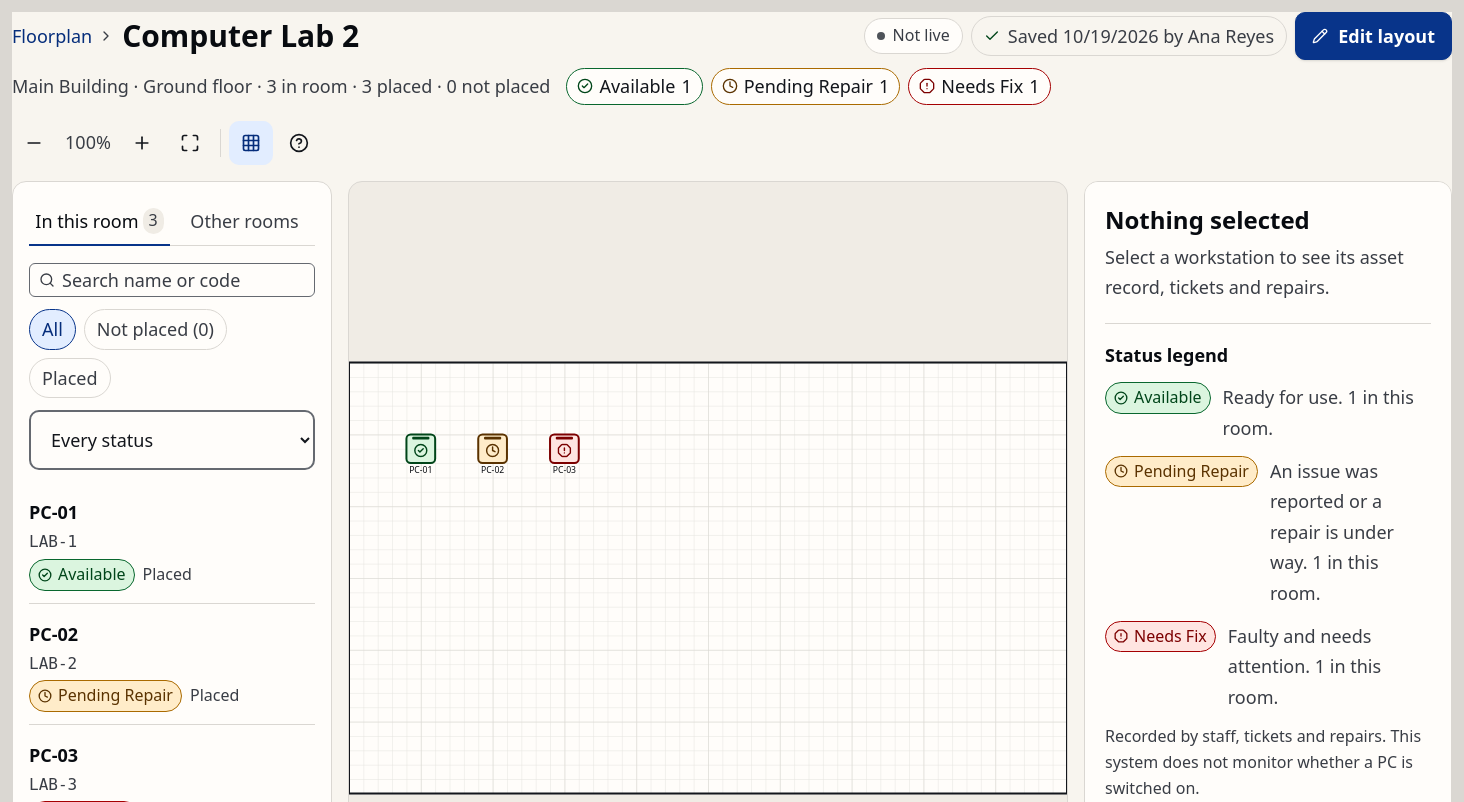
it: editing and saving › adds a fixture from the "Add fixture" menu, then closes the menu
The image size is (1464, 802).
Expected: the heading "Computer Lab 2" is shown, left=122, top=15, right=359, bottom=57
Click the button "Edit layout".
click(1374, 36)  # box left=1295, top=12, right=1452, bottom=60
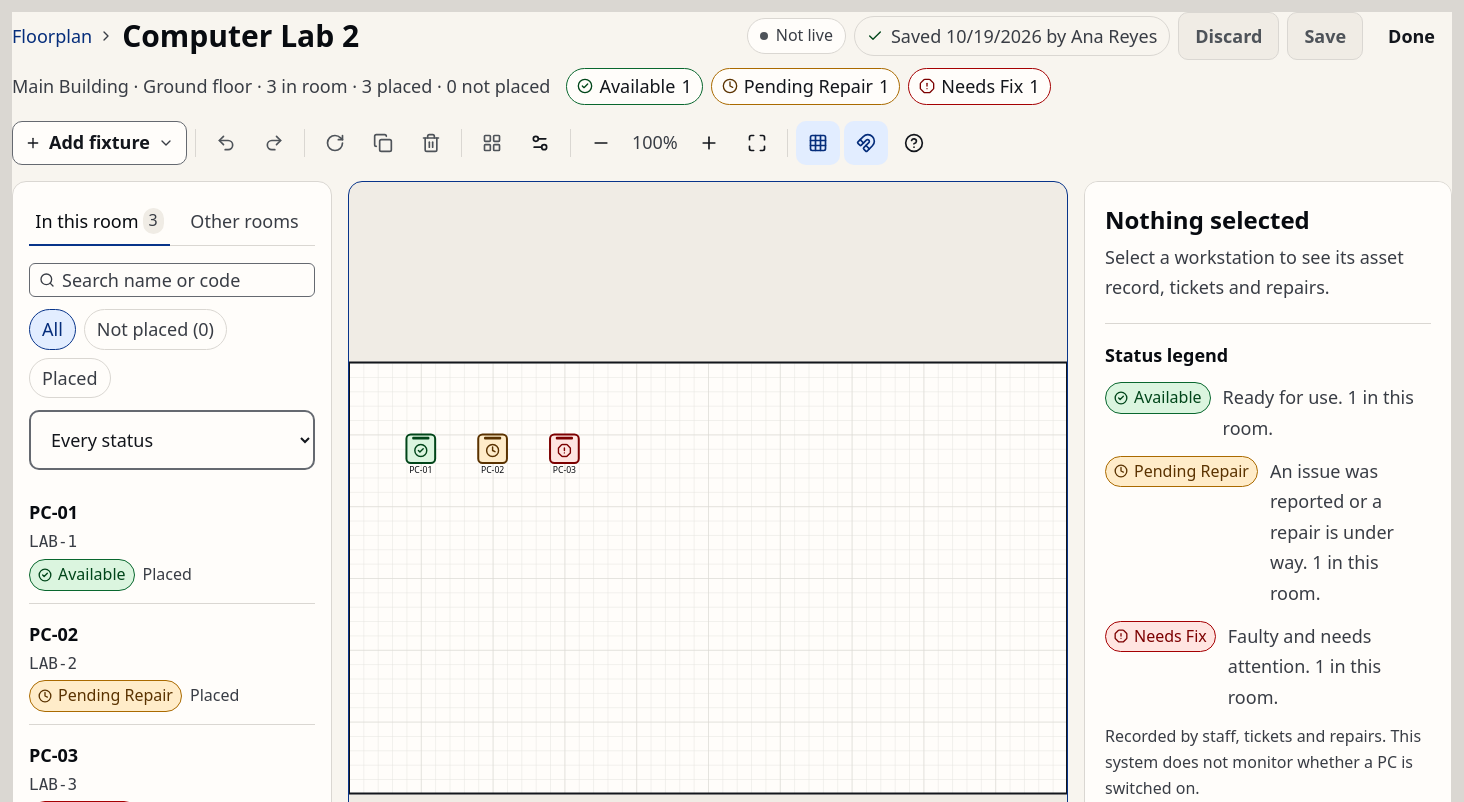
Click the button "Add fixture".
click(99, 143)  # box left=12, top=121, right=187, bottom=165
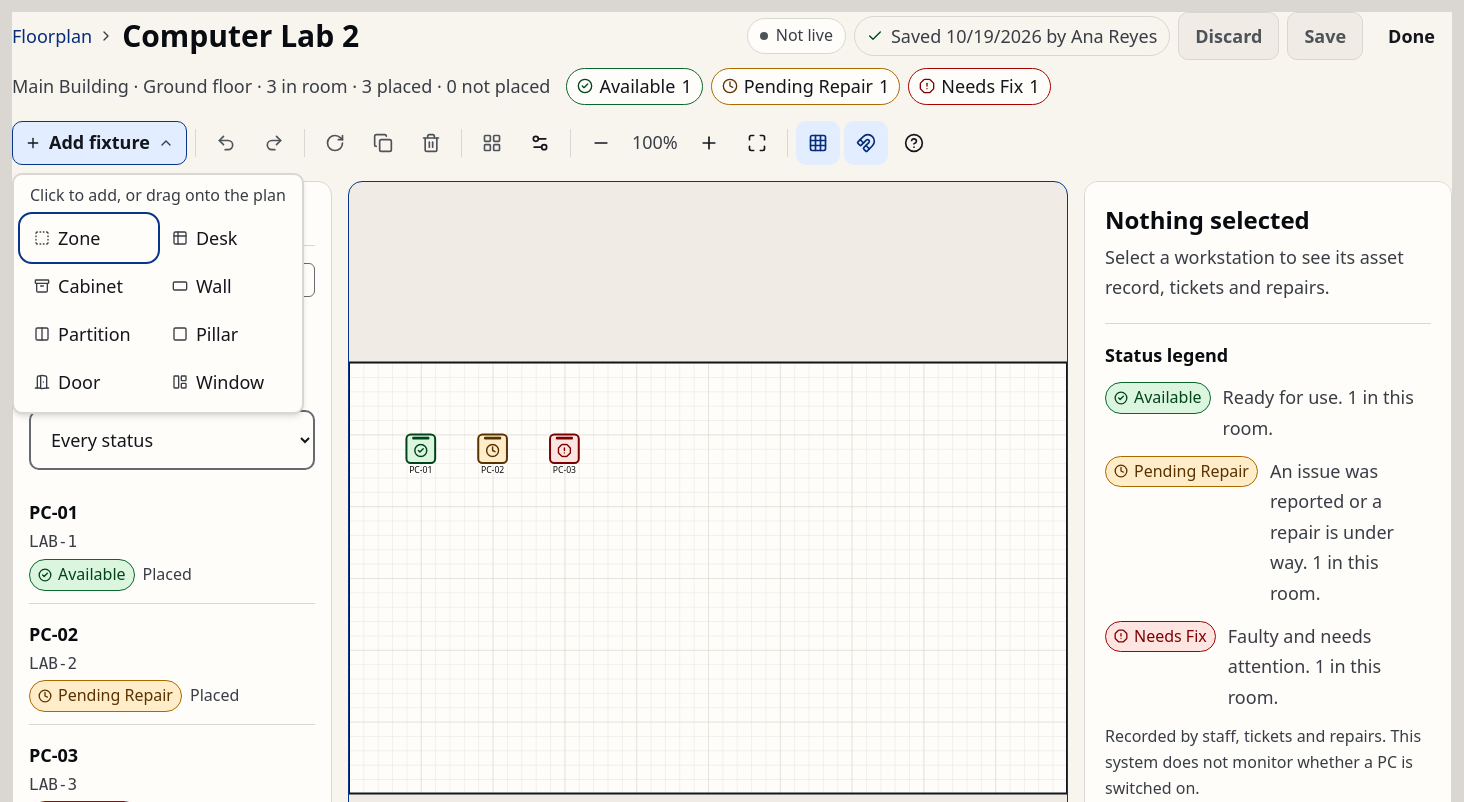
Click the button "Desk".
click(227, 238)  # box left=160, top=216, right=294, bottom=260
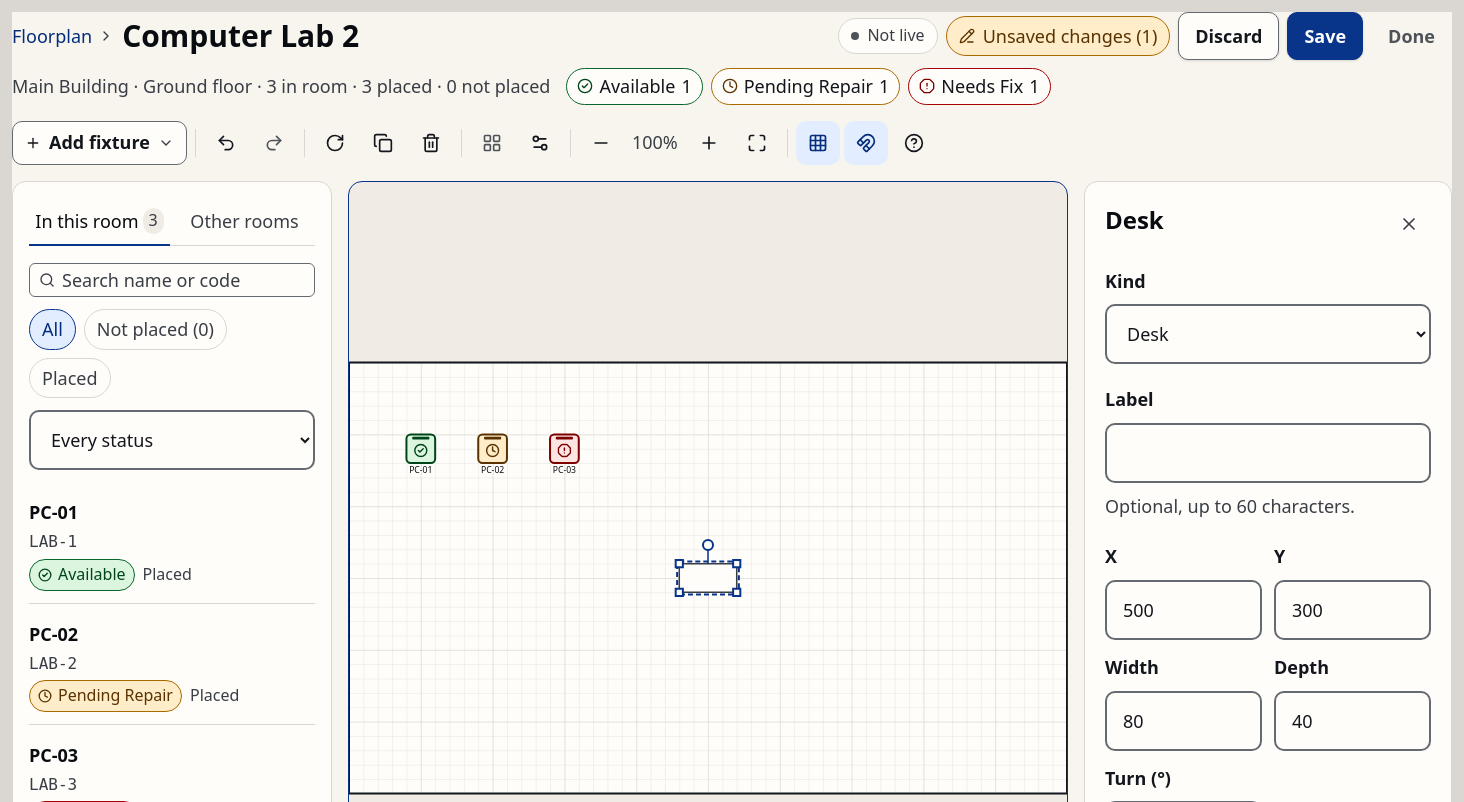
Now the text "Unsaved changes (1)" is shown, box left=946, top=16, right=1170, bottom=56
